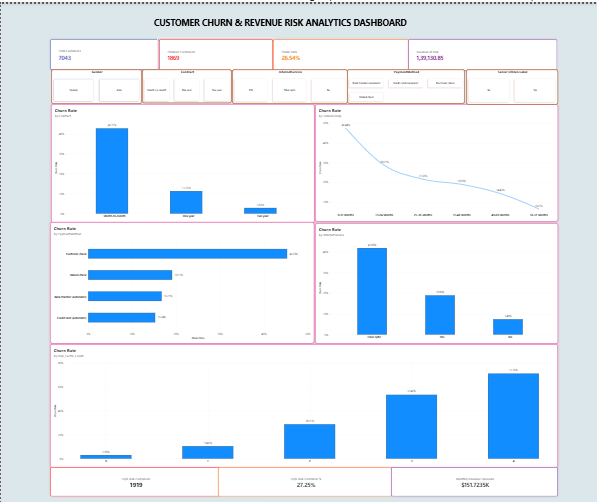

The page's visual inventory and layout, read from the dashboard file:
{"tool":"powerbi","page":{"name":"task 2 ","canvas":[3000,3000],"ordinal":0},"visuals":[{"type":"cardVisual","fields":{"Data":["Telco-Customer-Churn-Cleaned.Total Customers"]},"box":[236.2,162.5,567.5,176.2],"z":0},{"type":"cardVisual","fields":{"Data":["Telco-Customer-Churn-Cleaned.Churned Customers"]},"box":[781.2,162.5,591.2,180],"z":1000},{"type":"cardVisual","fields":{"Data":["Telco-Customer-Churn-Cleaned.Churn Rate"]},"box":[1348.8,162.8,701,179.4],"z":2000},{"type":"cardVisual","fields":{"Data":["Telco-Customer-Churn-Cleaned.Revenue at Risk"]},"box":[2026.2,162.5,767.5,180],"z":3000},{"type":"clusteredColumnChart","fields":{"Category":["Telco-Customer-Churn-Cleaned.Contract"],"Y":["Telco-Customer-Churn-Cleaned.Churn Rate"]},"box":[249.2,498.3,1318.9,594.7],"z":4000},{"type":"lineChart","fields":{"Category":["Telco-Customer-Churn-Cleaned.TenureGroup"],"Y":["Telco-Customer-Churn-Cleaned.Churn Rate"]},"box":[1568.1,501.7,1215.9,588],"z":5000},{"type":"clusteredBarChart","fields":{"Category":["Telco-Customer-Churn-Cleaned.PaymentMethod"],"Y":["Telco-Customer-Churn-Cleaned.Churn Rate"]},"box":[245.8,1089.7,1322.3,608],"z":6000},{"type":"clusteredColumnChart","fields":{"Category":["Telco-Customer-Churn-Cleaned.InternetService"],"Y":["Telco-Customer-Churn-Cleaned.Churn Rate"]},"box":[1568.1,1093,1215.9,604.7],"z":7000},{"type":"clusteredColumnChart","fields":{"Category":["Telco-Customer-Churn-Cleaned.Risk_Factor_Count"],"Y":["Telco-Customer-Churn-Cleaned.Churn Rate"]},"box":[245,1700,2540,620],"z":8000},{"type":"cardVisual","fields":{"Data":["Telco-Customer-Churn-Cleaned.High Risk Customers"]},"box":[235,2305,873.3,168.3],"z":9000},{"type":"cardVisual","fields":{"Data":["Telco-Customer-Churn-Cleaned.High Risk Customer %"]},"box":[1076.7,2305,893.3,168.3],"z":10000},{"type":"cardVisual","fields":{"Data":["Telco-Customer-Churn-Cleaned.Monthly Revenue Exposure"]},"box":[1940,2305,855,168.3],"z":11000},{"type":"advancedSlicerVisual","title":"Gender","fields":{"Values":["Telco-Customer-Churn-Cleaned.gender"]},"box":[248.8,326.2,455,175],"z":12000},{"type":"advancedSlicerVisual","fields":{"Values":["Telco-Customer-Churn-Cleaned.Contract"]},"box":[703.8,326.2,448.8,171.2],"z":13000},{"type":"advancedSlicerVisual","fields":{"Values":["Telco-Customer-Churn-Cleaned.InternetService"]},"box":[1152.5,326.2,578.8,175],"z":14000},{"type":"advancedSlicerVisual","fields":{"Values":["Telco-Customer-Churn-Cleaned.PaymentMethod"]},"box":[1731.2,326.2,590,173.8],"z":15000},{"type":"advancedSlicerVisual","fields":{"Values":["Telco-Customer-Churn-Cleaned.Senior Citizen Label"]},"box":[2322.5,326.2,461.2,178.8],"z":16000},{"type":"textbox","box":[285.7,63.1,2222.6,73.1],"z":17000}]}

Visuals, with their boxes on the page's 3000x3000 design canvas (x1, y1, x2, y2). These are canvas units, not pixel positions in the 597x502 screenshot, which may show the page scaled, cropped or inside an application window:
cardVisual - Telco-Customer-Churn-Cleaned.Total Customers: (x1=236, y1=162, x2=804, y2=339)
cardVisual - Telco-Customer-Churn-Cleaned.Churned Customers: (x1=781, y1=162, x2=1372, y2=342)
cardVisual - Telco-Customer-Churn-Cleaned.Churn Rate: (x1=1349, y1=163, x2=2050, y2=342)
cardVisual - Telco-Customer-Churn-Cleaned.Revenue at Risk: (x1=2026, y1=162, x2=2794, y2=342)
clusteredColumnChart - Telco-Customer-Churn-Cleaned.Contract x Telco-Customer-Churn-Cleaned.Churn Rate: (x1=249, y1=498, x2=1568, y2=1093)
lineChart - Telco-Customer-Churn-Cleaned.TenureGroup x Telco-Customer-Churn-Cleaned.Churn Rate: (x1=1568, y1=502, x2=2784, y2=1090)
clusteredBarChart - Telco-Customer-Churn-Cleaned.PaymentMethod x Telco-Customer-Churn-Cleaned.Churn Rate: (x1=246, y1=1090, x2=1568, y2=1698)
clusteredColumnChart - Telco-Customer-Churn-Cleaned.InternetService x Telco-Customer-Churn-Cleaned.Churn Rate: (x1=1568, y1=1093, x2=2784, y2=1698)
clusteredColumnChart - Telco-Customer-Churn-Cleaned.Risk_Factor_Count x Telco-Customer-Churn-Cleaned.Churn Rate: (x1=245, y1=1700, x2=2785, y2=2320)
cardVisual - Telco-Customer-Churn-Cleaned.High Risk Customers: (x1=235, y1=2305, x2=1108, y2=2473)
cardVisual - Telco-Customer-Churn-Cleaned.High Risk Customer %: (x1=1077, y1=2305, x2=1970, y2=2473)
cardVisual - Telco-Customer-Churn-Cleaned.Monthly Revenue Exposure: (x1=1940, y1=2305, x2=2795, y2=2473)
"Gender" advancedSlicerVisual: (x1=249, y1=326, x2=704, y2=501)
advancedSlicerVisual - Telco-Customer-Churn-Cleaned.Contract: (x1=704, y1=326, x2=1153, y2=497)
advancedSlicerVisual - Telco-Customer-Churn-Cleaned.InternetService: (x1=1152, y1=326, x2=1731, y2=501)
advancedSlicerVisual - Telco-Customer-Churn-Cleaned.PaymentMethod: (x1=1731, y1=326, x2=2321, y2=500)
advancedSlicerVisual - Telco-Customer-Churn-Cleaned.Senior Citizen Label: (x1=2322, y1=326, x2=2784, y2=505)
textbox: (x1=286, y1=63, x2=2508, y2=136)
